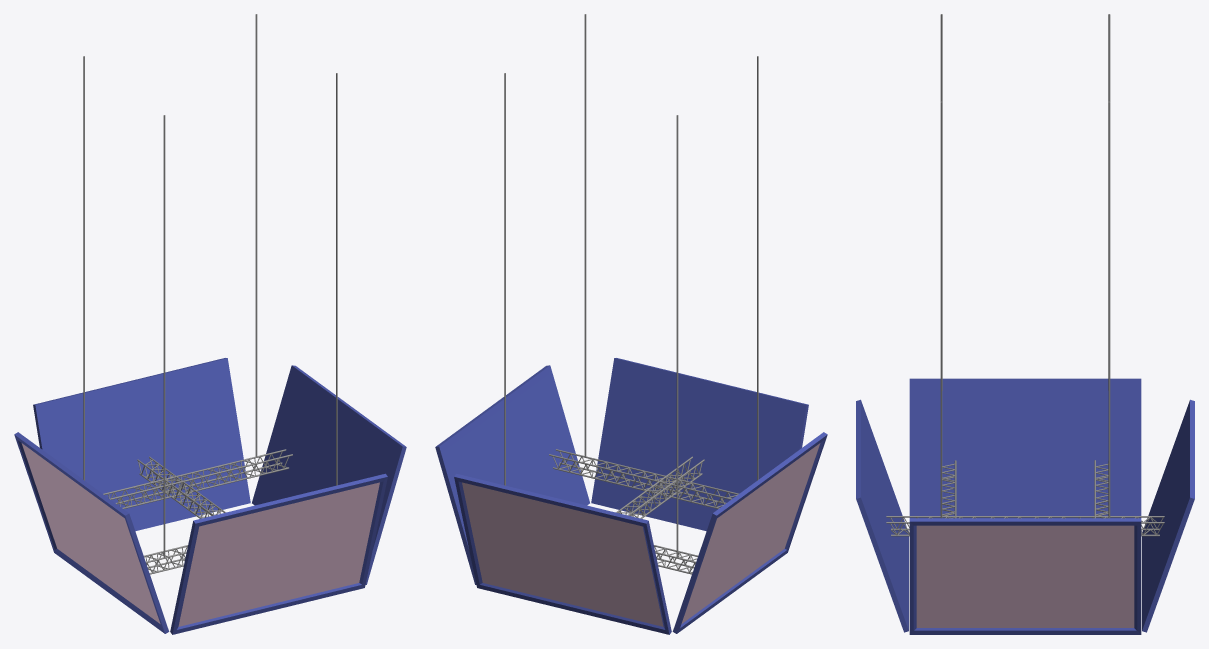
Rendered from CellingMonitor3.fbx.
3 renders of one model, left to right at view 1: azimuth 30°, elevation 25°; view 2: azimuth 150°, elevation 25°; view 3: azimuth 270°, elevation 25°, orthographic. The views are drawn at different scales.
Parts seen in each view (by area): view 1: monitor, steel; view 2: monitor, steel; view 3: monitor, steel.
Boxes of the visible parts, box(x1,y1,x2,y2) form: monitor: box(14, 358, 406, 634); steel: box(83, 14, 337, 574); monitor: box(435, 358, 827, 634); steel: box(504, 14, 758, 574); monitor: box(856, 378, 1194, 634); steel: box(886, 14, 1164, 536).
Size of the model in its own units: 967 by 1655 by 967.
